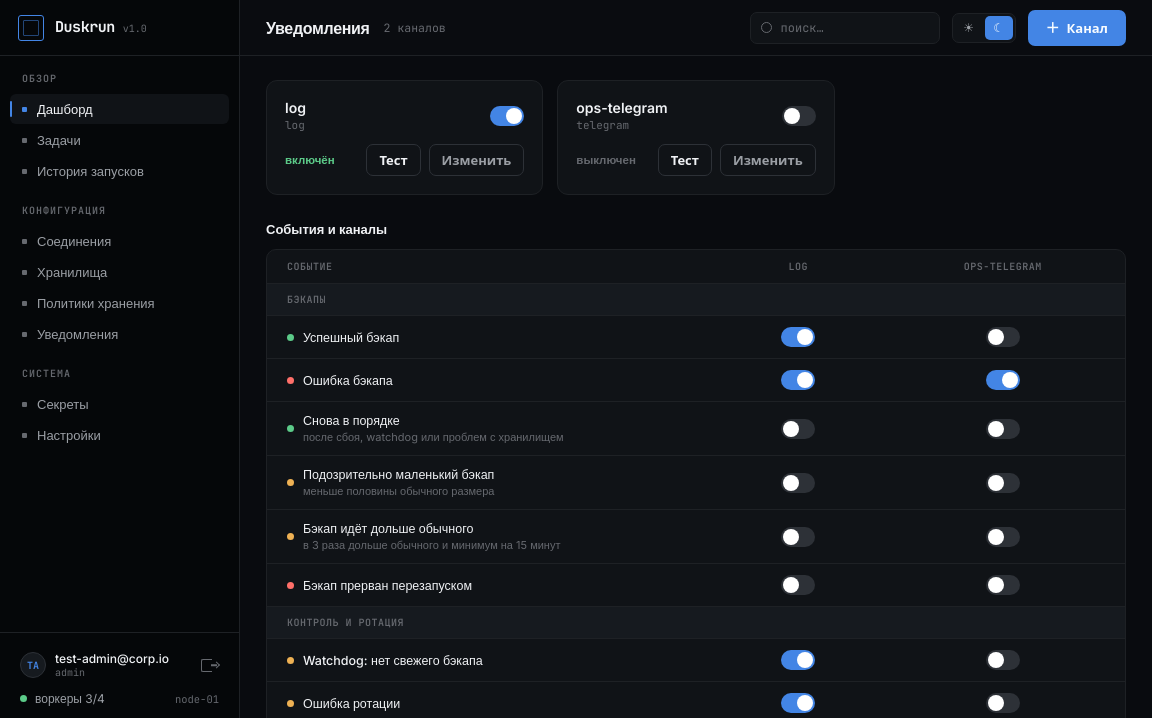
Test case: TestNotificationsTestButtonReportsResult: a failed test shows the reason
Step 1. Click the button "Тест" next to "выключен" → (685,160), box [658,144,712,176]
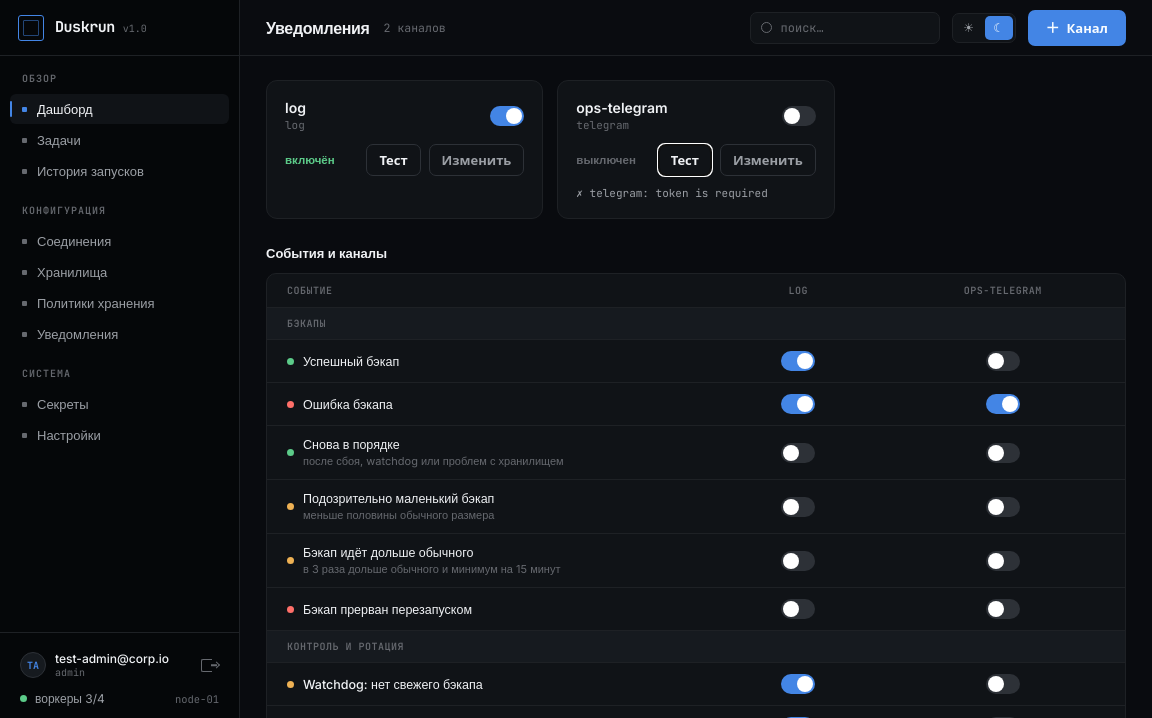
Now the text "✗ telegram: token is required" is shown, box [576,186,768,200]
